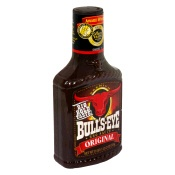grozi_75: (52, 5, 122, 169)
